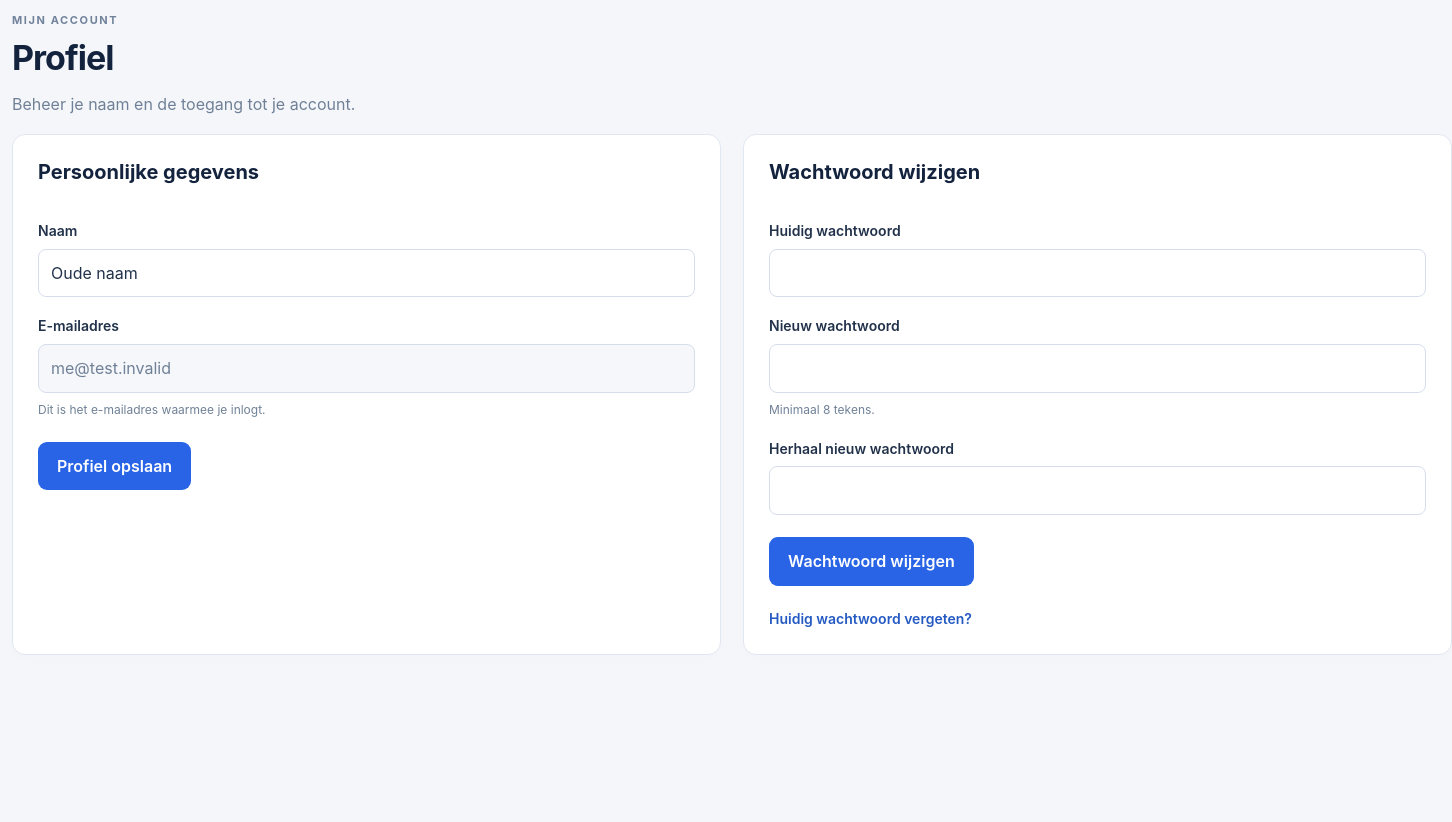
rejects mismatched passwords before making auth requests
Expected: the field labelled "Naam" is shown, [38,249,695,297]
Type "old-secret" into the password field labelled "Huidig wachtwoord".
click(1098, 273); type("old-secret")  # box [769,249,1426,297]
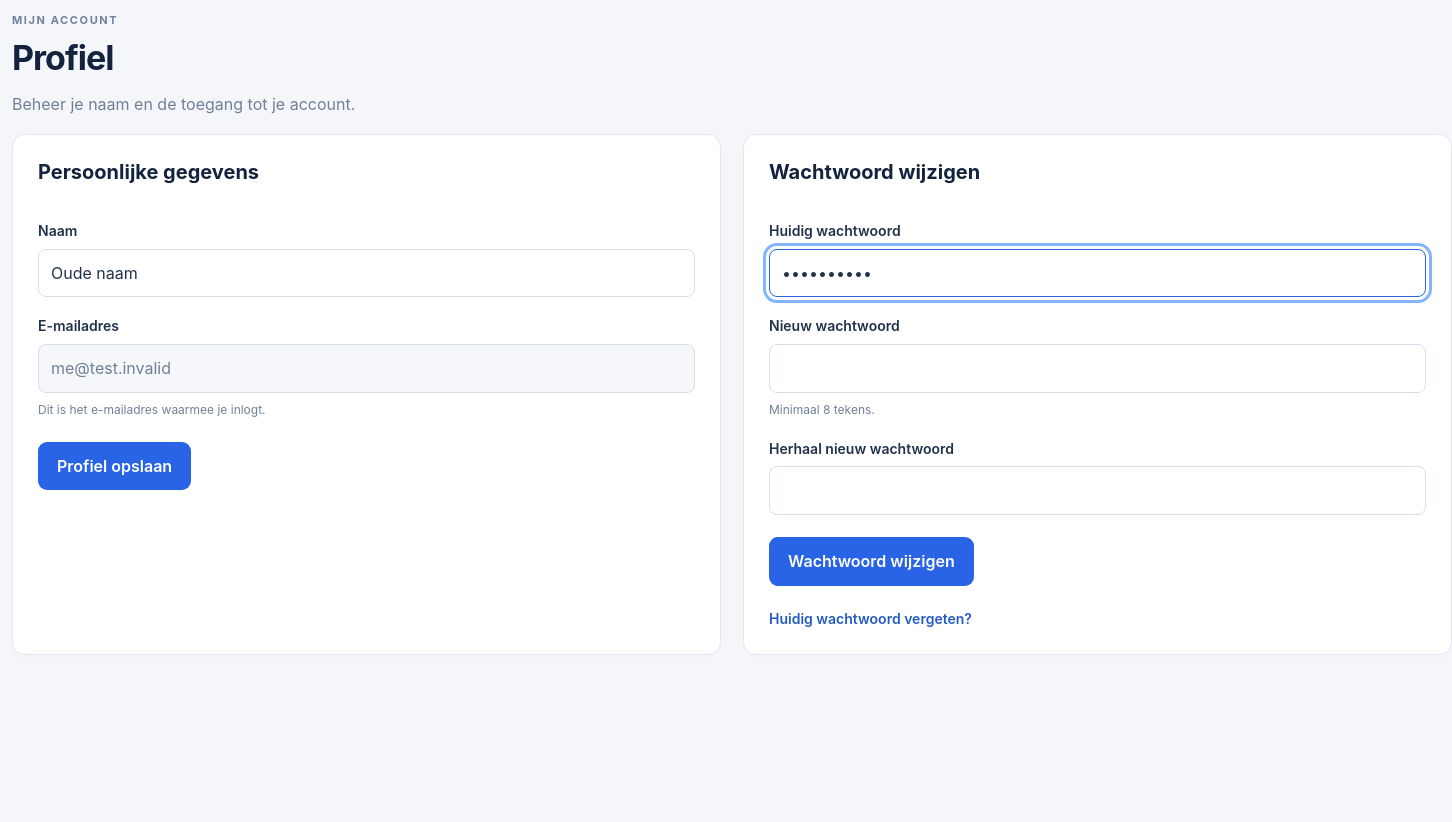
Type "new-secret" into the password field labelled "Nieuw wachtwoord".
click(1098, 368); type("new-secret")  # box [769,344,1426,393]
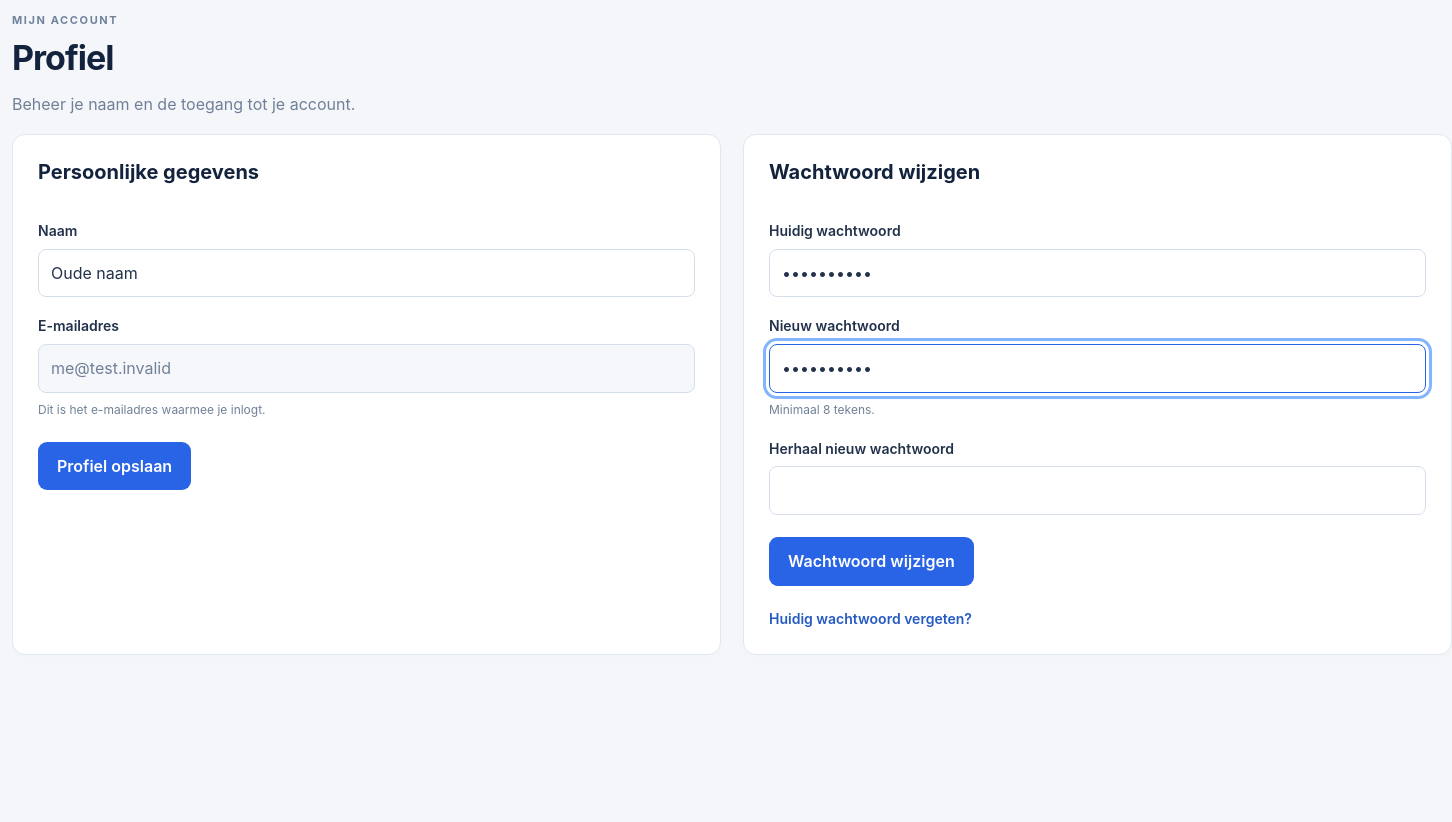
Type "different-secret" into the password field labelled "Herhaal nieuw wachtwoord".
click(1098, 491); type("different-secret")  # box [769,466,1426,515]
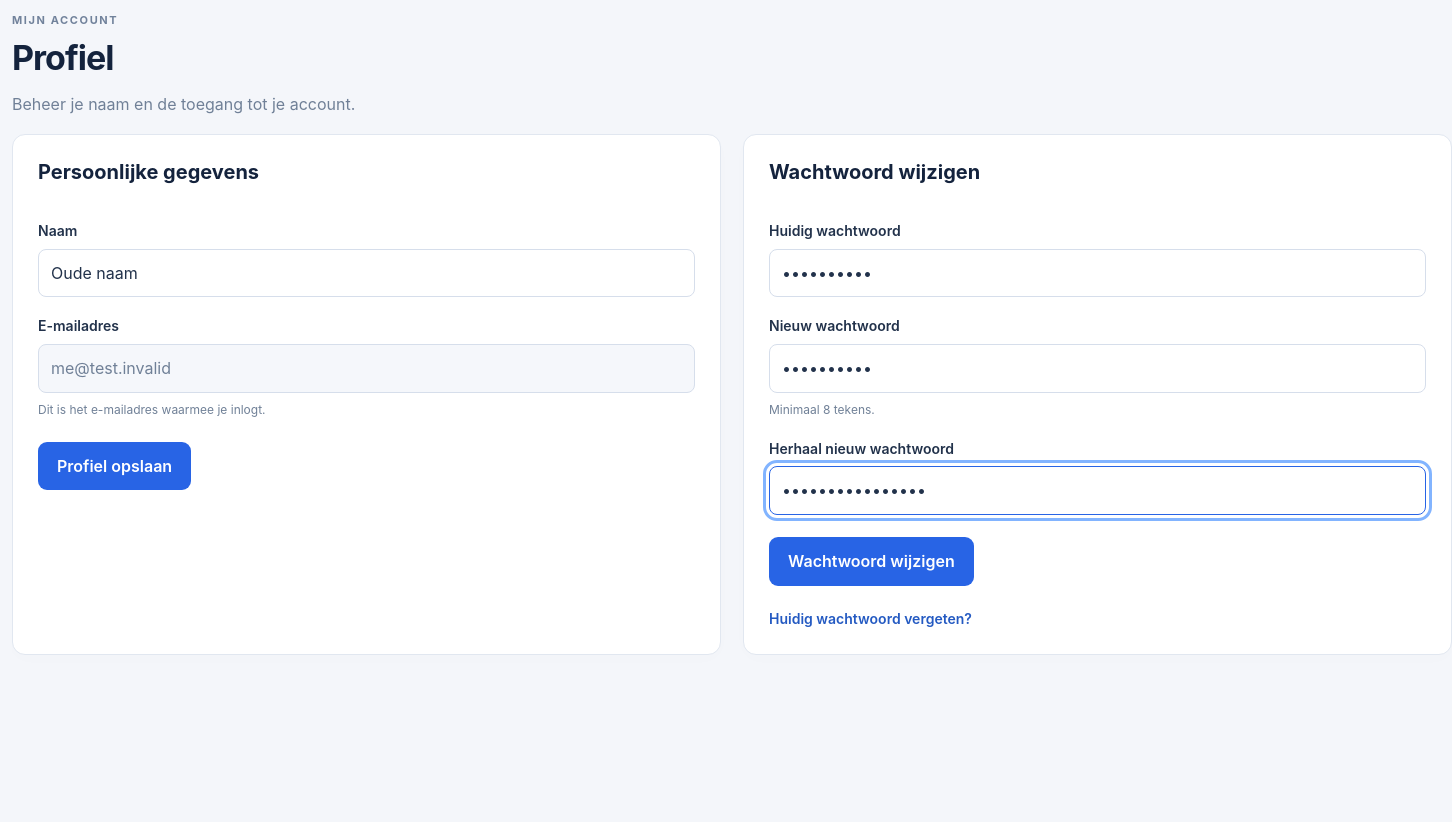
Click the button "Wachtwoord wijzigen".
click(871, 561)  # box [769,537,974,586]
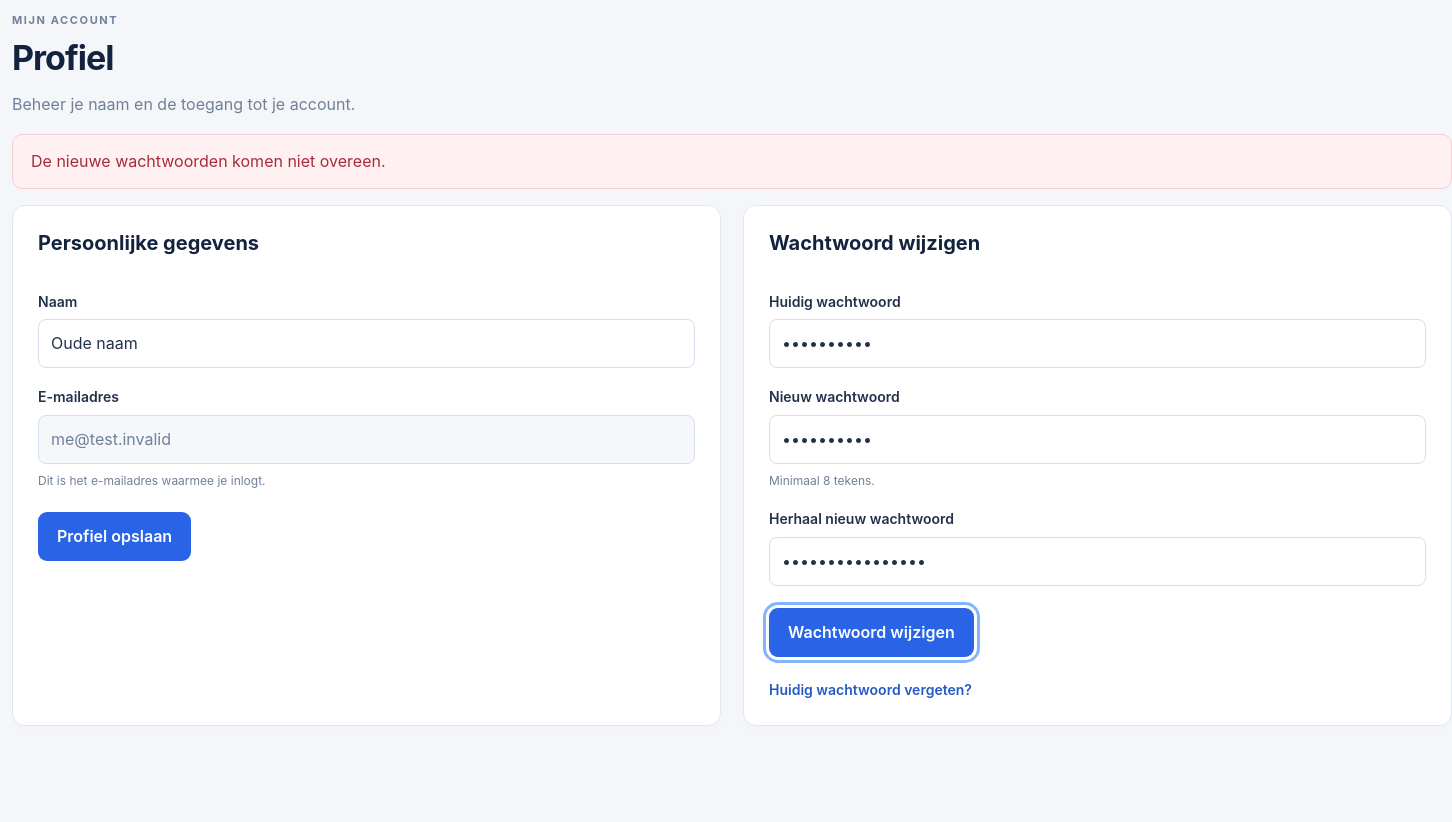
Expected: the message shows "niet overeen", [31,151,386,171]
